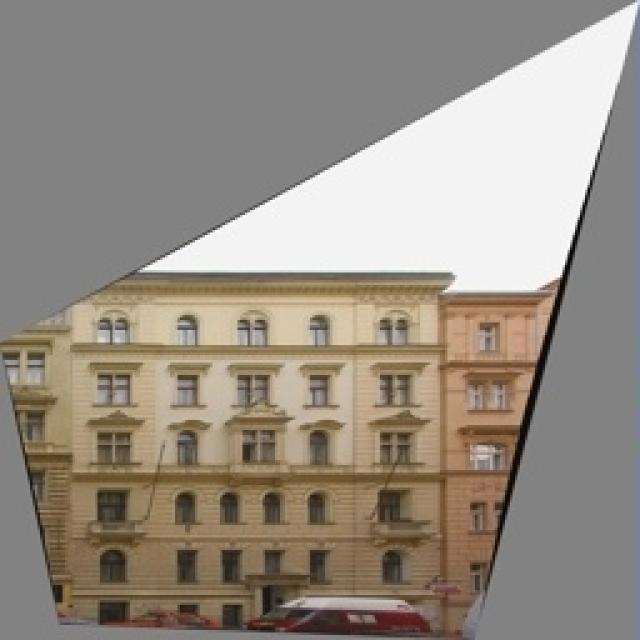building: (5, 262, 447, 638)
